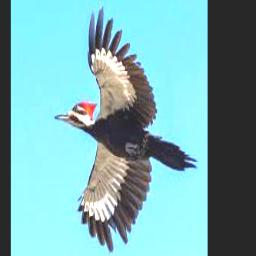Woodpecker: (54, 3, 198, 253)
